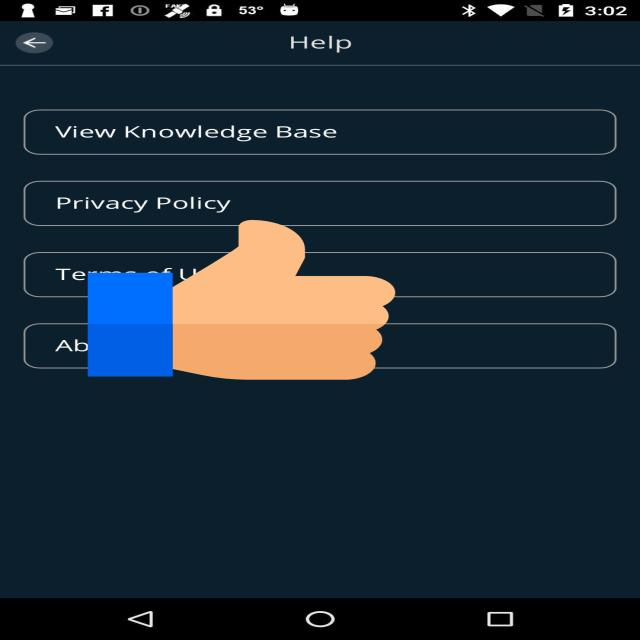privacy zuckering: (88, 216, 395, 384)
